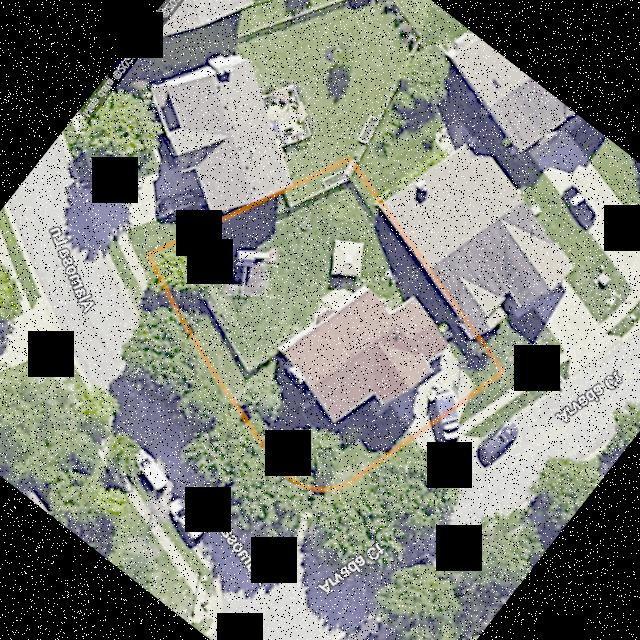Driveway: (392, 348, 473, 433)
Extra Driveway: (437, 436, 480, 463), (414, 426, 446, 449)
Extra Lawn: (466, 395, 527, 438), (456, 375, 509, 422)
Extra Sidewalk: (462, 386, 518, 433)
House: (279, 282, 446, 421)
Other: (224, 249, 276, 295), (331, 239, 363, 276)
